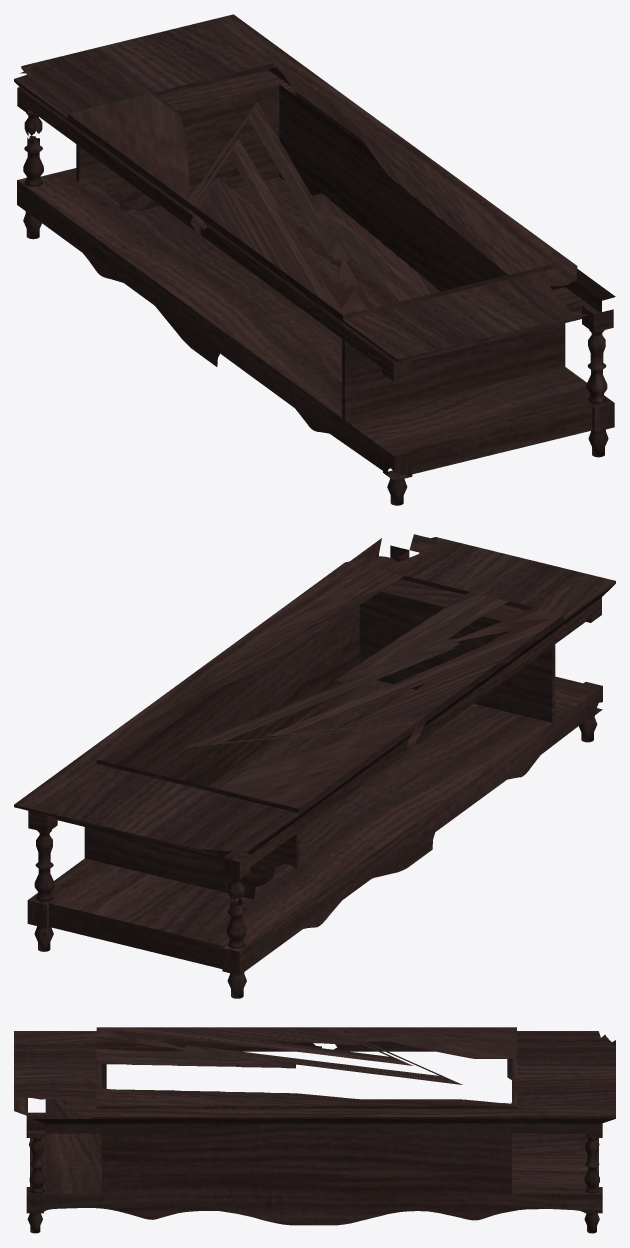
Rendered from Tabllle.fbx.
3 views of the same model, one above another, from view 1: azimuth 30°, elevation 25°; view 2: azimuth 150°, elevation 25°; view 3: azimuth 270°, elevation 25° (orthographic). The views are drawn at different scales.
Visible parts, largest first — view 1: Cylinder.017; view 2: Cylinder.017; view 3: Cylinder.017.
Part boxes in pixels (x1,y1,x2,y2): Cylinder.017: (14,14,615,505); Cylinder.017: (14,534,615,998); Cylinder.017: (14,1027,615,1233).
Bounding box in the file's own units: 210 × 141 × 621.
